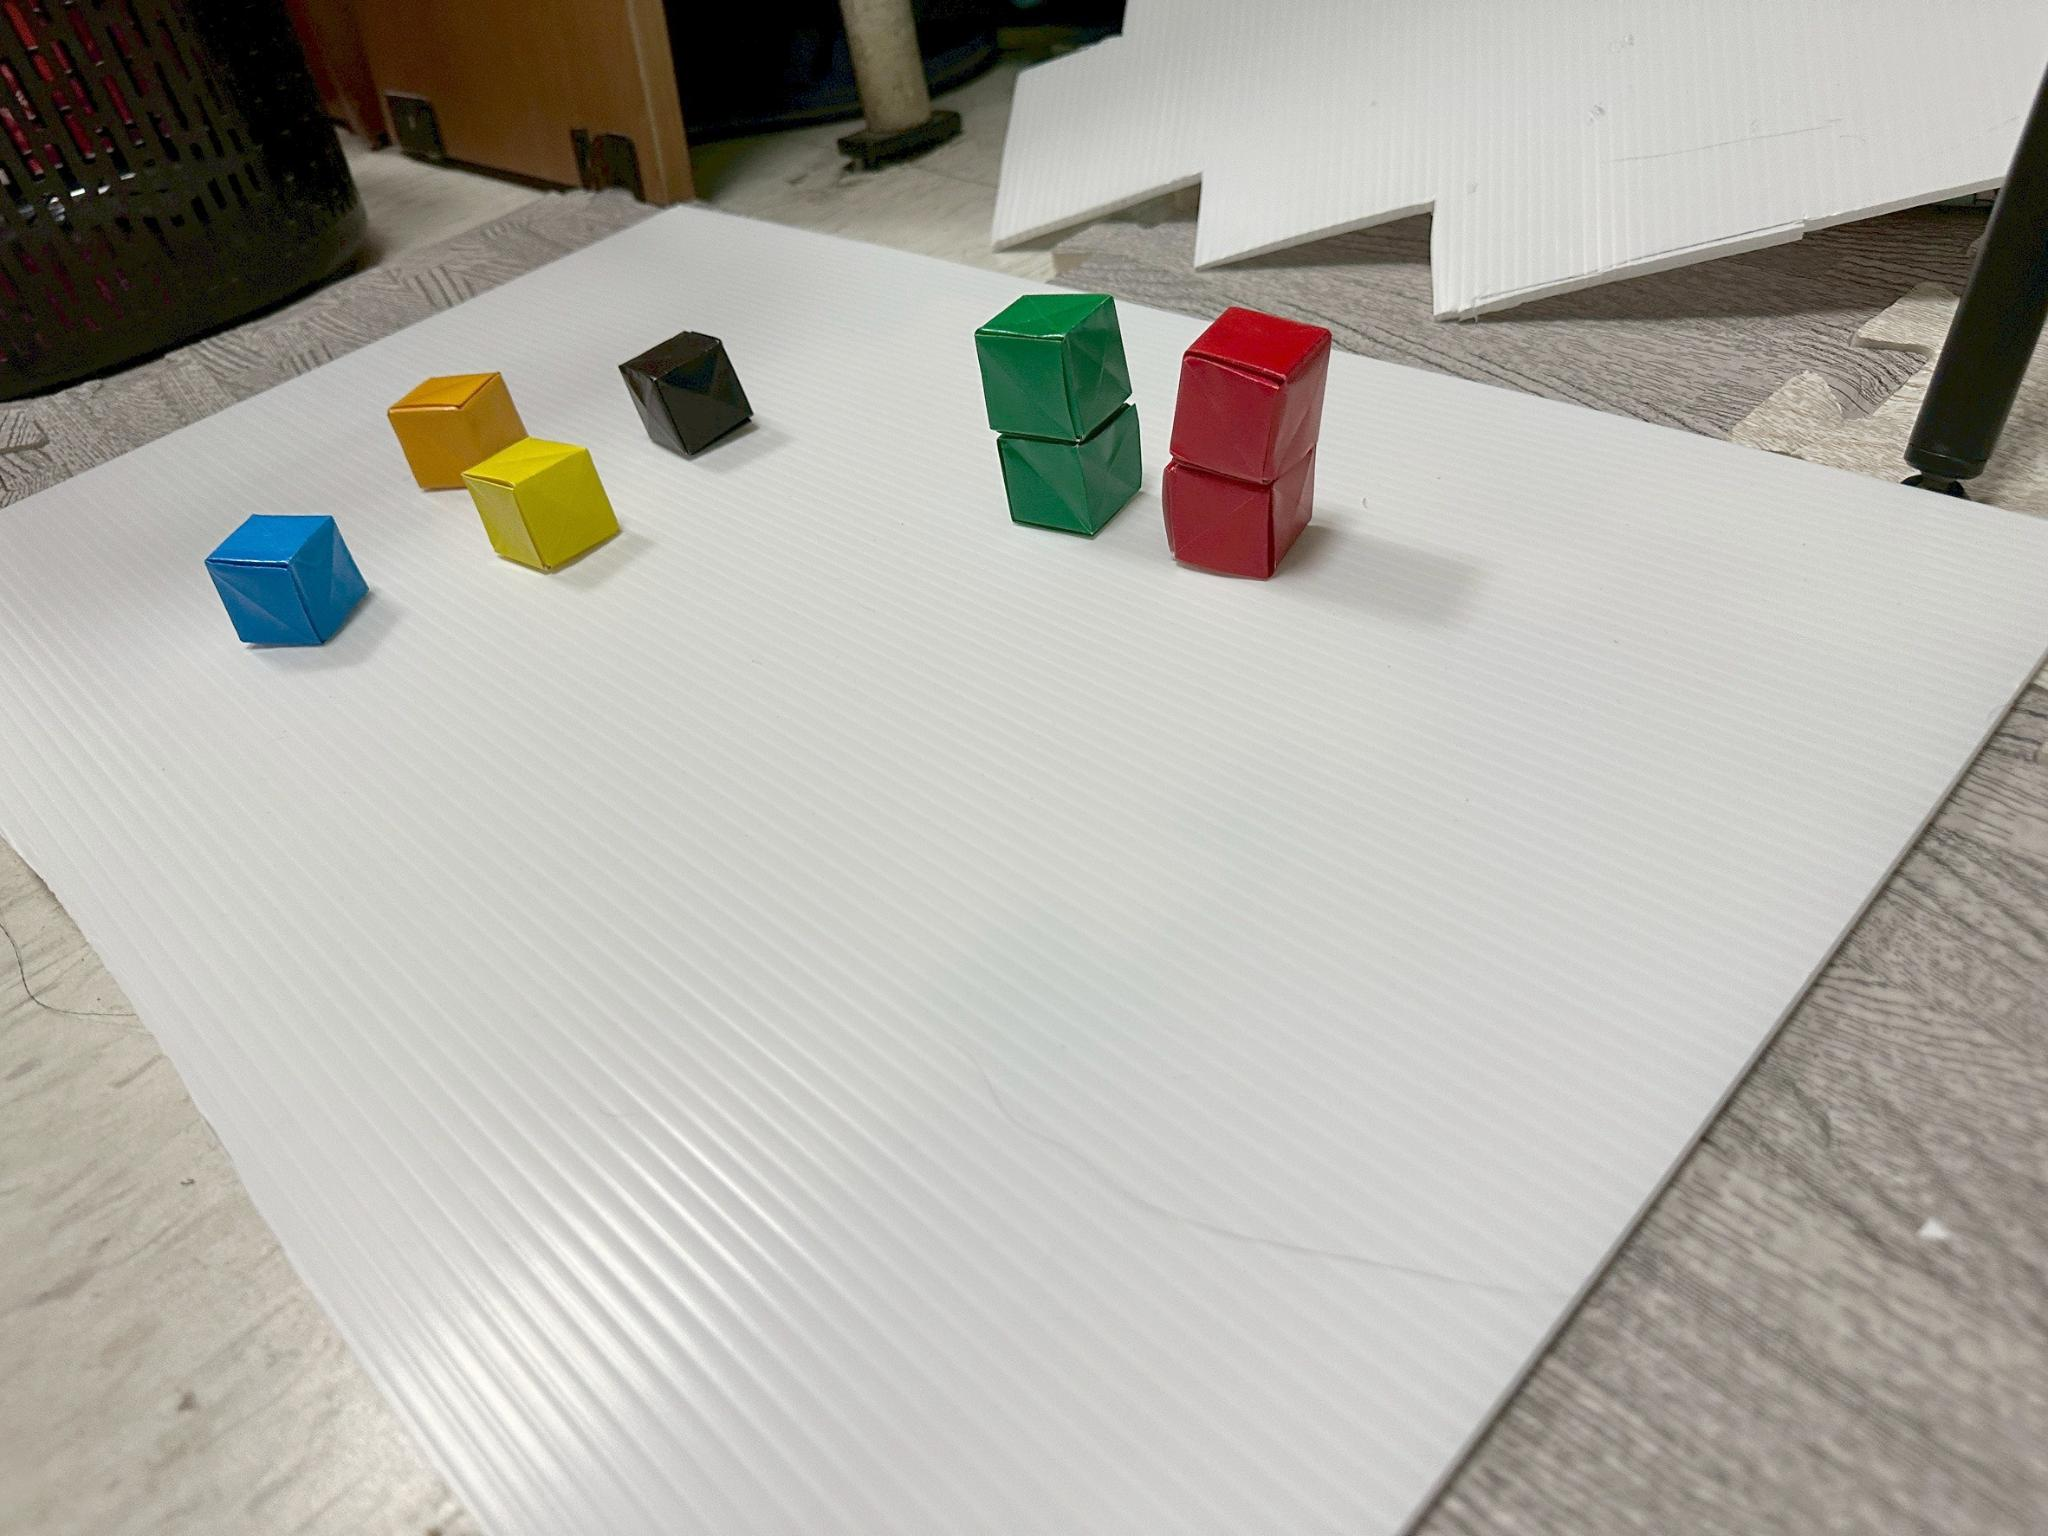base: (1171, 308, 1330, 481), (974, 295, 1132, 439), (205, 515, 368, 647), (464, 437, 619, 573), (997, 405, 1142, 536), (1163, 455, 1314, 579), (621, 332, 753, 458), (387, 373, 527, 489)
